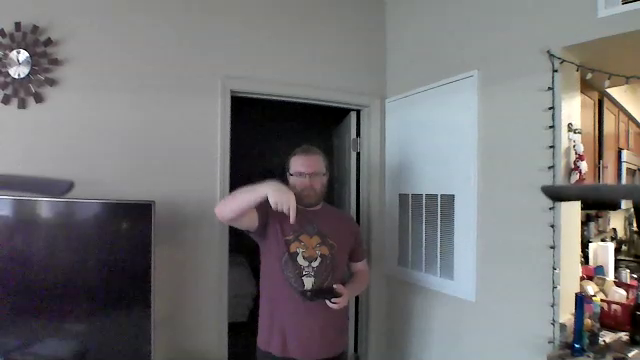down: (263, 174, 300, 228)
